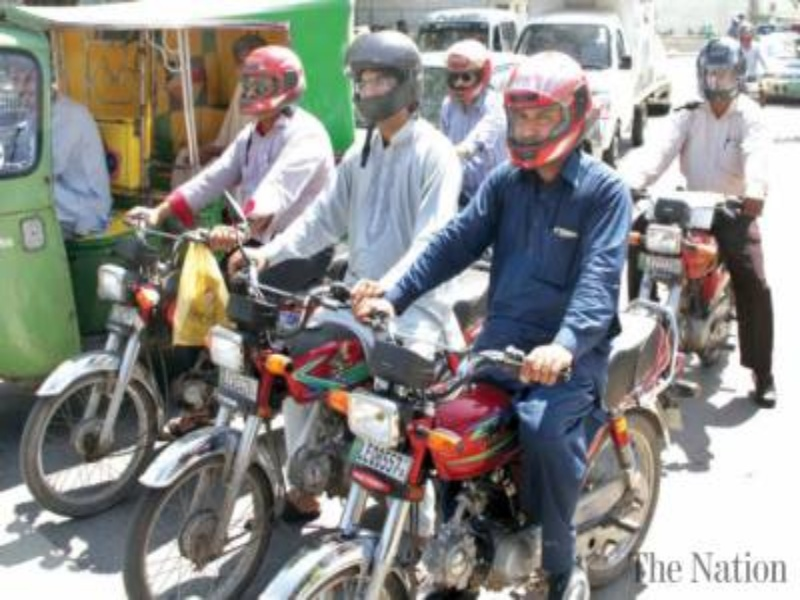helmet: (501, 49, 599, 172), (342, 26, 429, 127), (237, 40, 309, 128), (693, 29, 750, 110), (441, 34, 496, 109)
